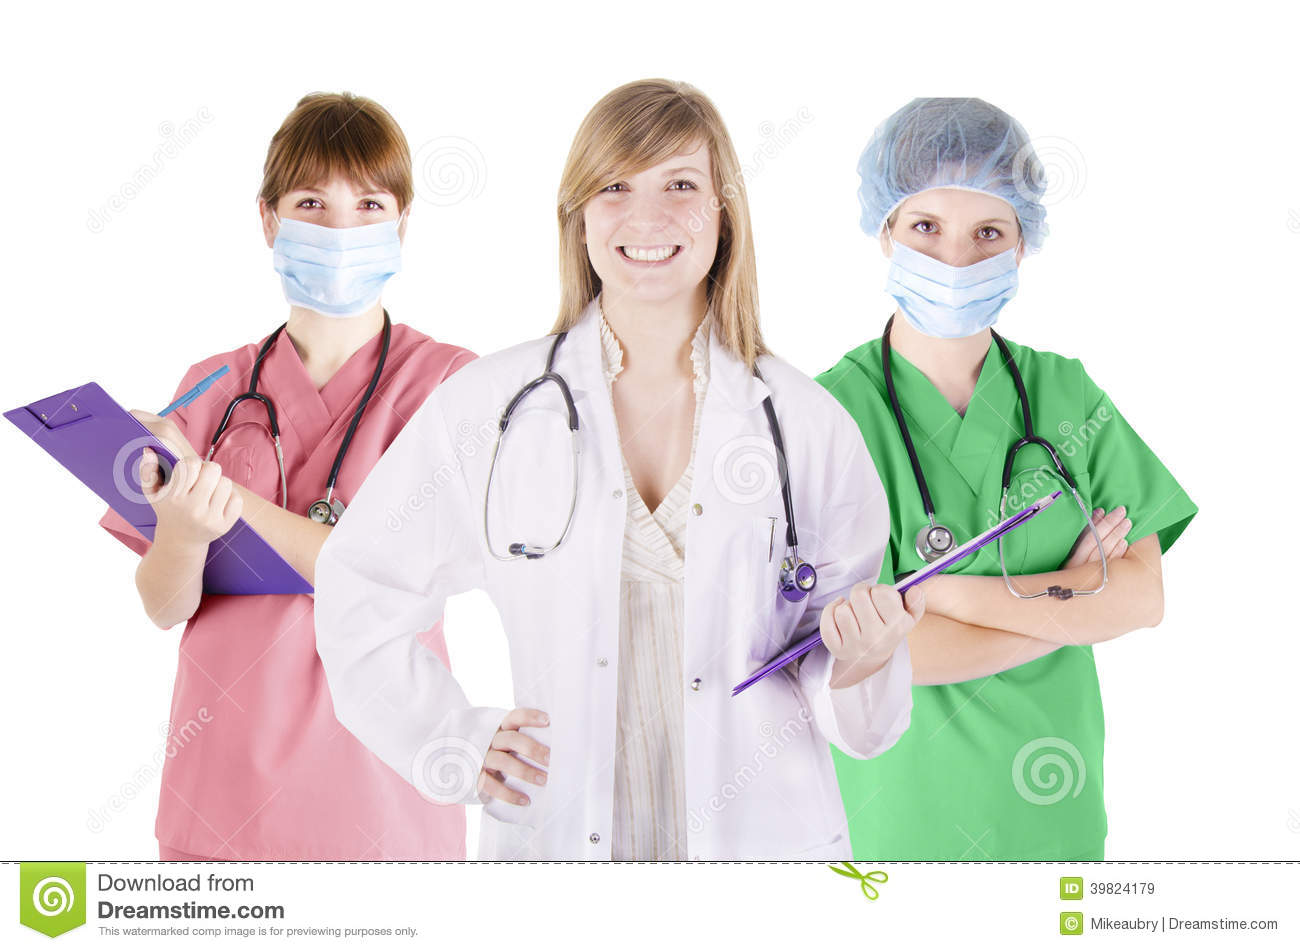mask: (270, 227, 415, 337), (885, 231, 1043, 328)
